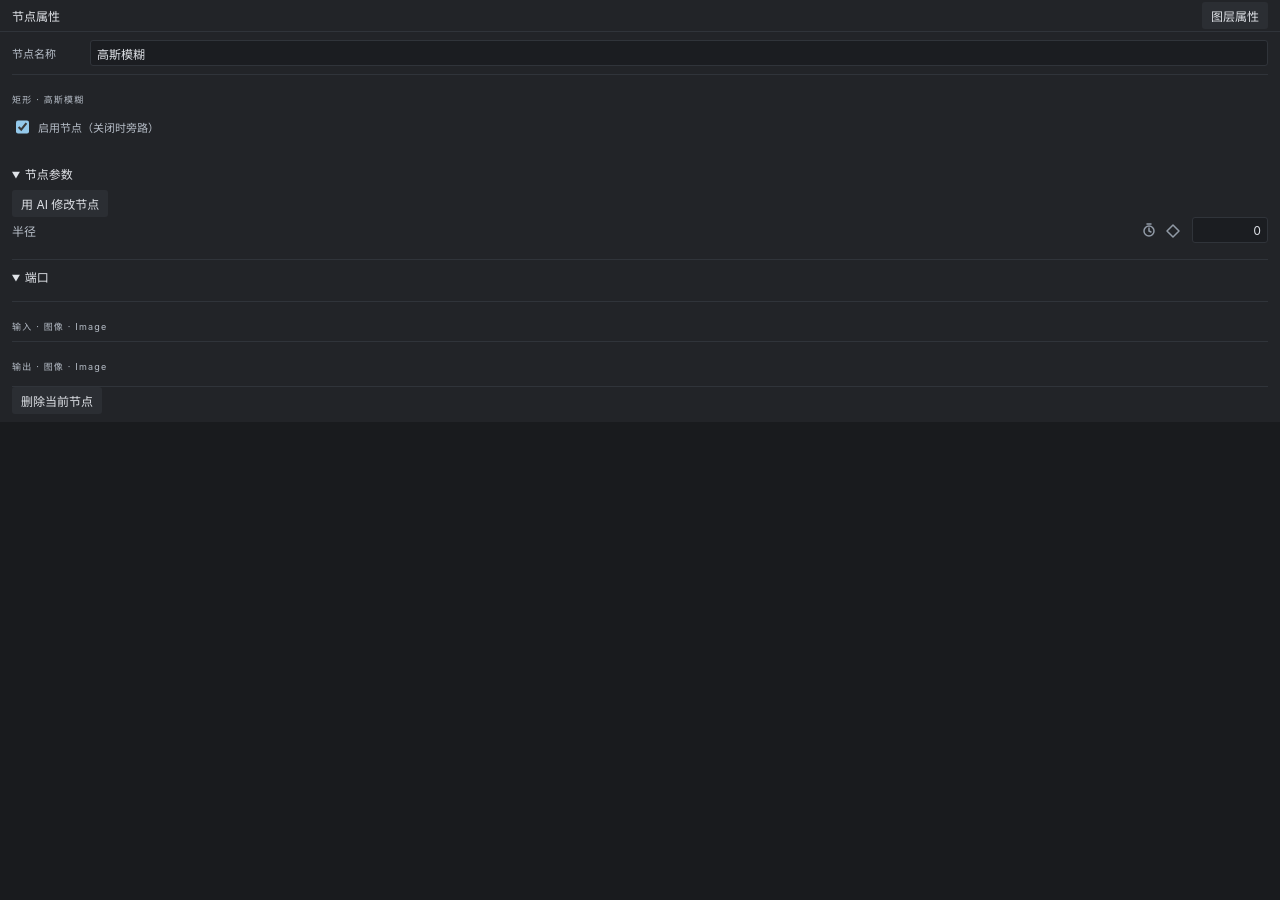
Test: canonical Inspector entry works without mounted Graph workspace and defaults to parameter-only
This screenshot has width=1280, height=900.
Click the button "用 AI 修改节点".
click(60, 204)  # box [12, 190, 108, 217]
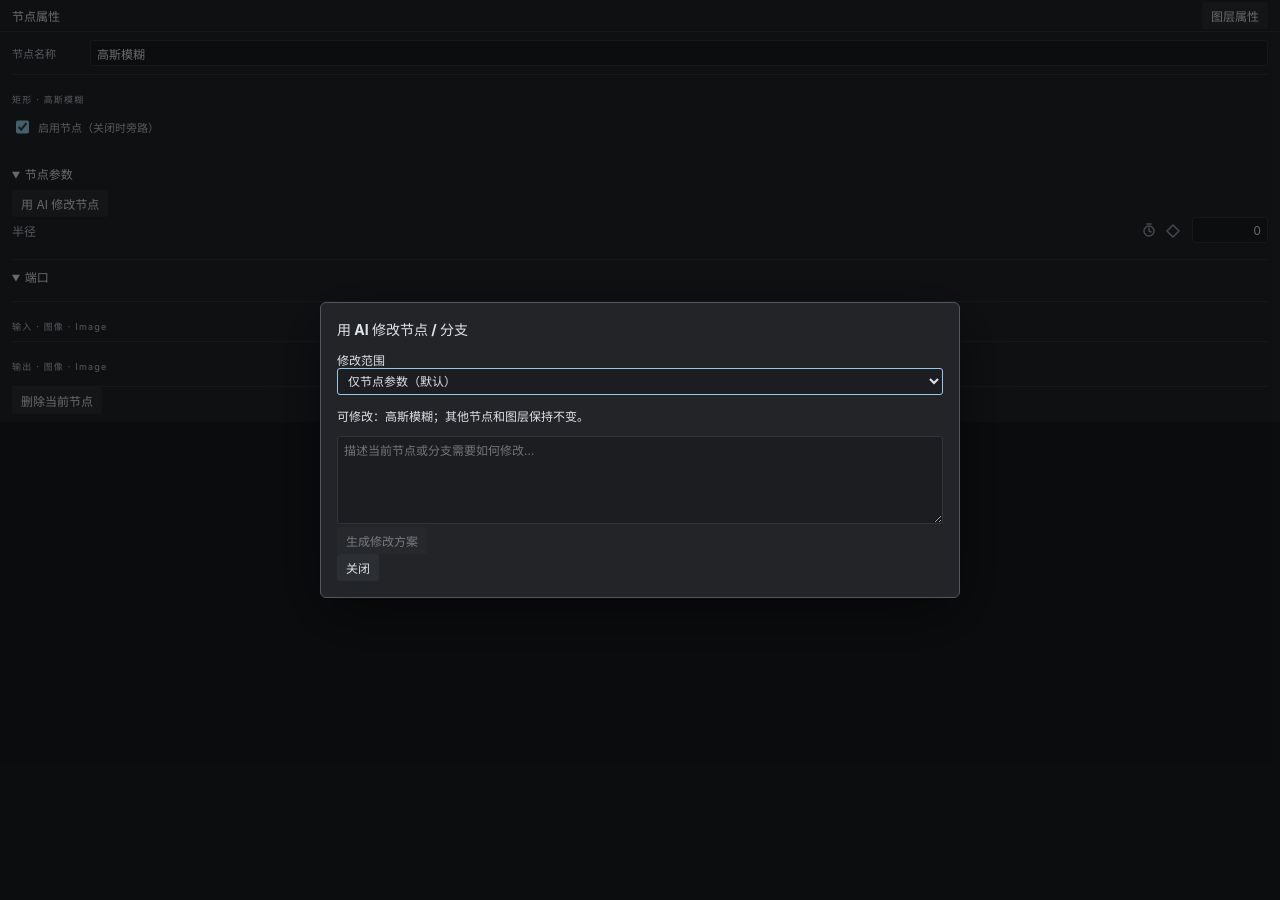
Expected: the dialog is shown, [320, 302, 960, 598]
Expected: the dropdown named "AI 修改范围" shows "仅节点参数（默认）", [337, 368, 943, 395]
Expected: the text "可修改：高斯模糊；其他节点和图层保持不变。" is shown, [337, 409, 589, 424]
Click the button "关闭".
click(358, 568)  # box [337, 554, 379, 581]
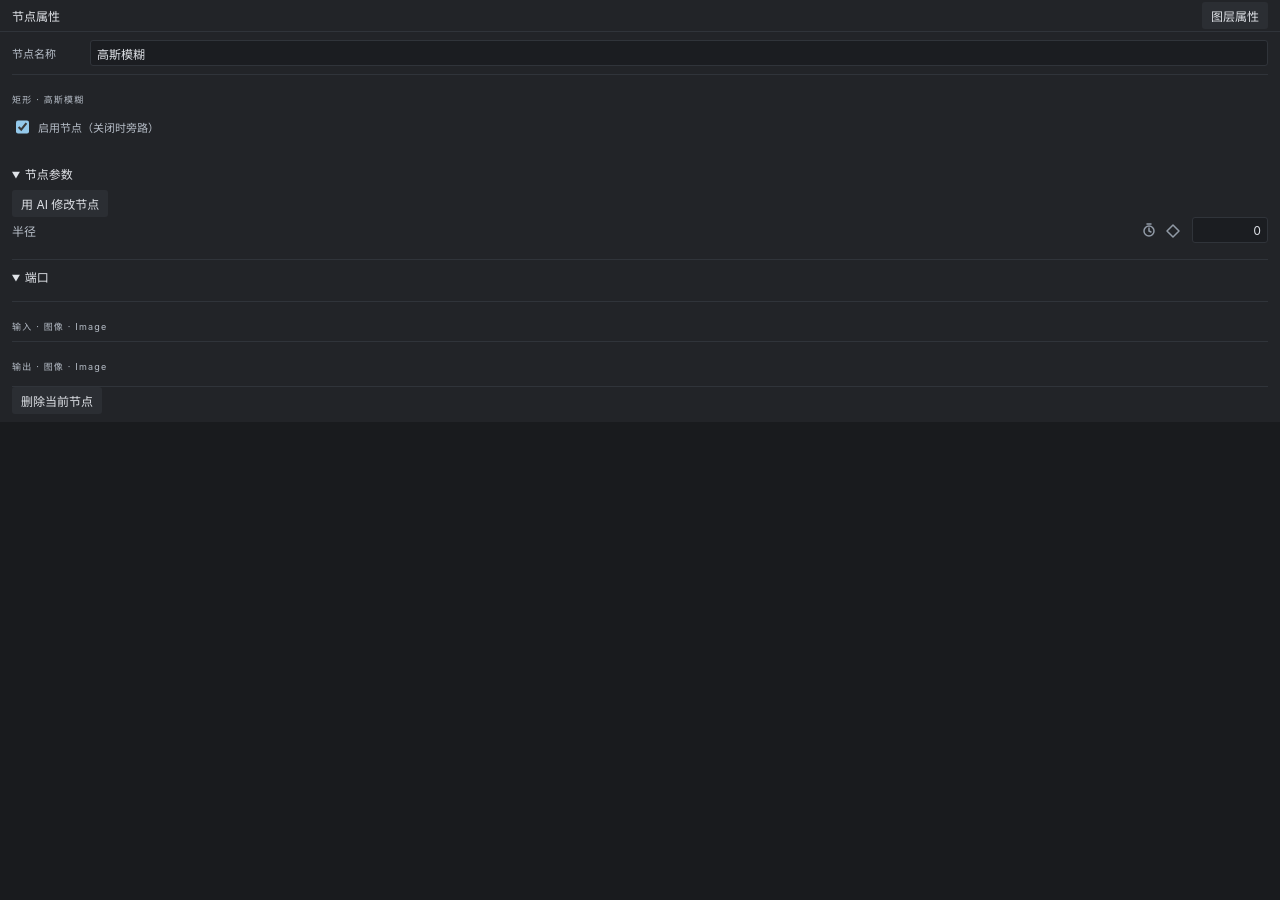
Expected: the dialog is gone
